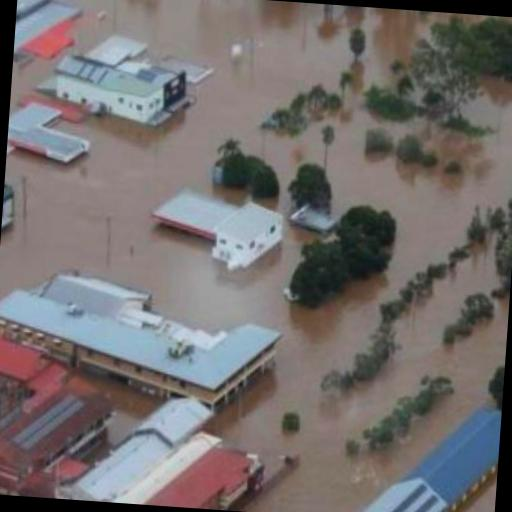flood: (0, 0, 512, 512), (76, 372, 164, 449), (9, 60, 51, 112), (462, 478, 497, 512)
house: (0, 264, 298, 414), (53, 30, 193, 126), (150, 184, 288, 274), (408, 397, 502, 506), (6, 104, 89, 168), (14, 0, 83, 68)
